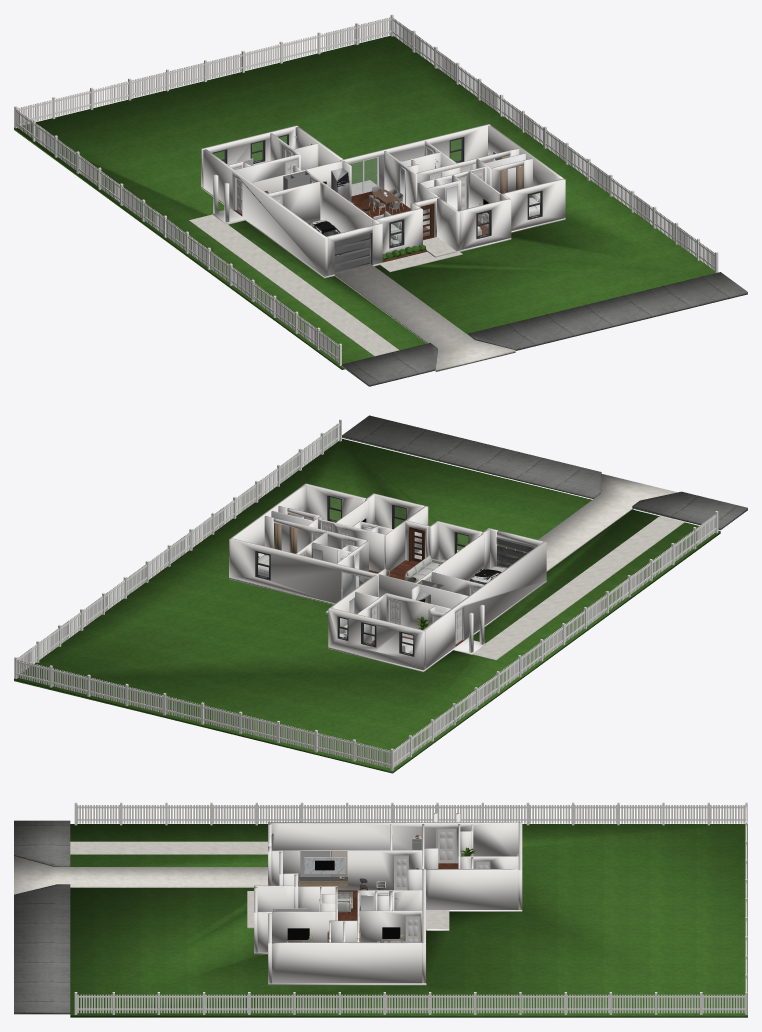
The model's file is utah-plan-v4.glb.
3 renders of one model, top to bottom at view 1: azimuth 30°, elevation 25°; view 2: azimuth 150°, elevation 25°; view 3: azimuth 270°, elevation 25°, orthographic. The views are drawn at different scales.
Visible parts, largest first — view 1: Césped del lote, cerca blanca, Calle, Entrada de autos, Muro · Casa 02, camino al anexo, Muro · Casa 10, Muro · Casa 09, Muro · Casa 07, Losa y pisos · Comedor, Muro · Casa 13, Muro · Casa 01 (+13 smaller); view 2: Césped del lote, cerca blanca, Calle, camino al anexo, Muro · Casa 02, Muro · Casa 10, Entrada de autos, Muro · Casa 01, Muro · Casa 13, Losa y pisos · Comedor, Muro · Lavandería 01, Muro · Casa 12 (+11 smaller); view 3: Césped del lote, cerca blanca, Calle, Muro · Casa 02, Muro · Casa 12, Entrada de autos, Muro · Casa 11, Muro · Casa 13, camino al anexo, TV · Sala, Muro · Dormitorio 3 04, Muro · Baños 01 (+13 smaller).
Boxes of the visible parts, <box> form: Césped del lote: <box>14,35,714,369</box>; cerca blanca: <box>14,14,718,365</box>; Calle: <box>342,272,747,386</box>; Entrada de autos: <box>334,265,515,371</box>; Muro · Casa 02: <box>203,149,327,276</box>; camino al anexo: <box>189,214,399,356</box>; Muro · Casa 10: <box>340,124,490,189</box>; Muro · Casa 09: <box>503,178,565,230</box>; Muro · Casa 07: <box>458,198,511,250</box>; Losa y pisos · Comedor: <box>201,187,565,278</box>; Muro · Casa 13: <box>305,170,373,256</box>; Muro · Casa 01: <box>201,125,298,187</box>; Césped del lote: <box>14,438,720,773</box>; cerca blanca: <box>14,419,718,770</box>; Calle: <box>342,415,747,529</box>; camino al anexo: <box>472,516,684,660</box>; Muro · Casa 02: <box>422,541,546,668</box>; Muro · Casa 10: <box>229,538,378,603</box>; Entrada de autos: <box>522,474,676,571</box>; Muro · Casa 01: <box>328,607,425,670</box>; Muro · Casa 13: <box>416,534,484,583</box>; Losa y pisos · Comedor: <box>229,560,546,671</box>; Muro · Lavandería 01: <box>378,574,468,608</box>; Muro · Casa 12: <box>231,485,306,545</box>; Césped del lote: <box>70,824,747,1017</box>; cerca blanca: <box>74,802,747,1014</box>; Calle: <box>14,820,70,1014</box>; Muro · Casa 02: <box>268,822,518,863</box>; Muro · Casa 12: <box>272,942,422,983</box>; Entrada de autos: <box>14,856,267,894</box>; Muro · Casa 11: <box>426,869,518,909</box>; Muro · Casa 13: <box>283,850,422,890</box>; camino al anexo: <box>70,841,267,854</box>; TV · Sala: <box>300,851,347,886</box>; Muro · Dormitorio 3 04: <box>272,911,335,942</box>; Muro · Baños 01: <box>359,910,422,942</box>.
Size of the model in its own units: 24.38 by 2.6 by 39.62.
Materials: 223 (120 with a texture image).
